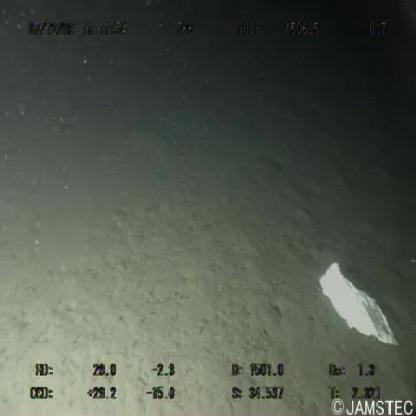Rác: (314, 256, 400, 352)
